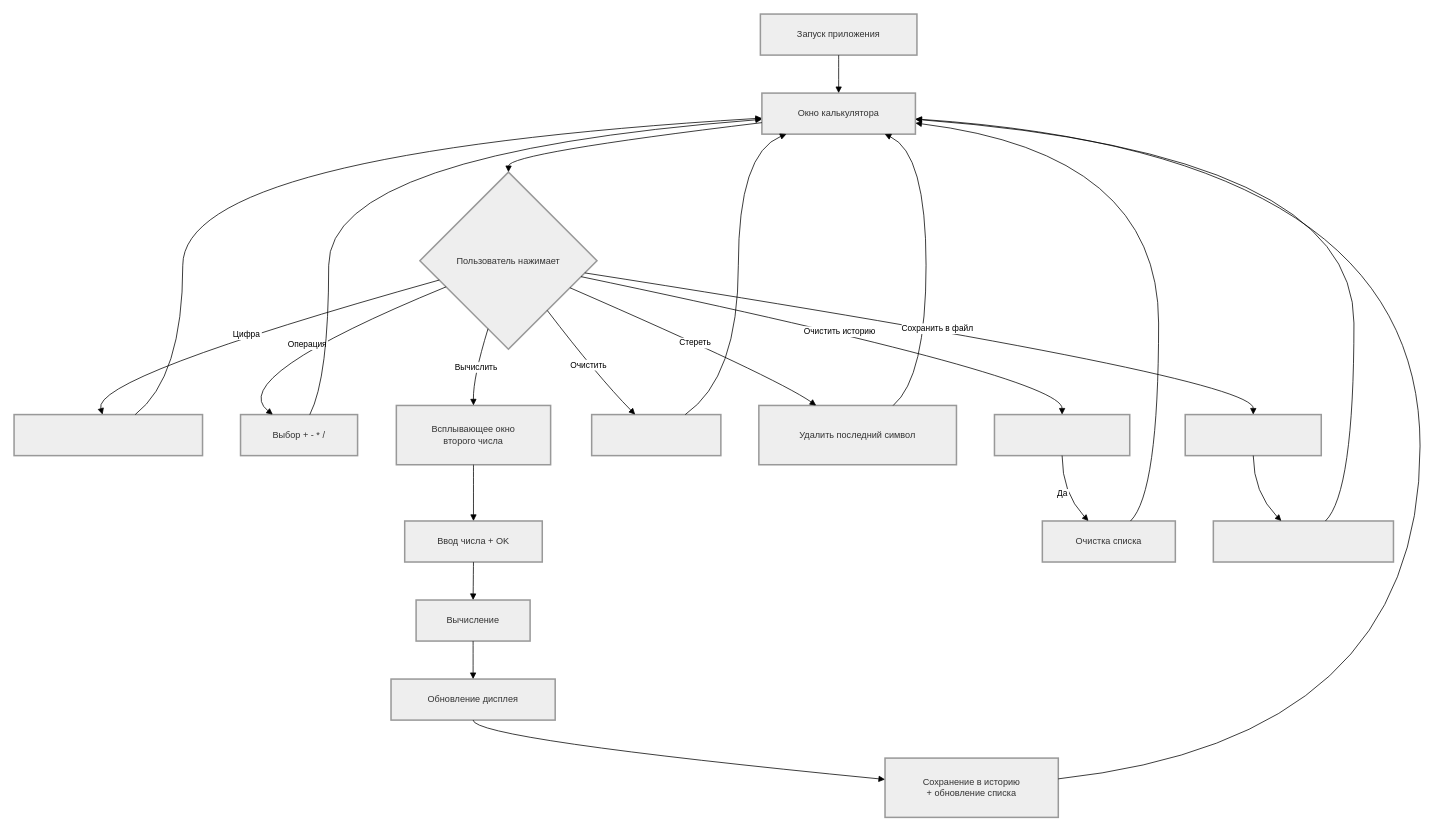
This 1433x831 diagram has some shape labels left out. Here are the shapes that lost their labels. From the top down, the centre of each, then its label:
pixel 108 434: Отображение на дисплее
pixel 656 434: Сброс дисплея
pixel 1061 434: Подтверждение
pixel 1253 434: Сохранение .txt
pixel 1303 541: Уведомление об успехе
